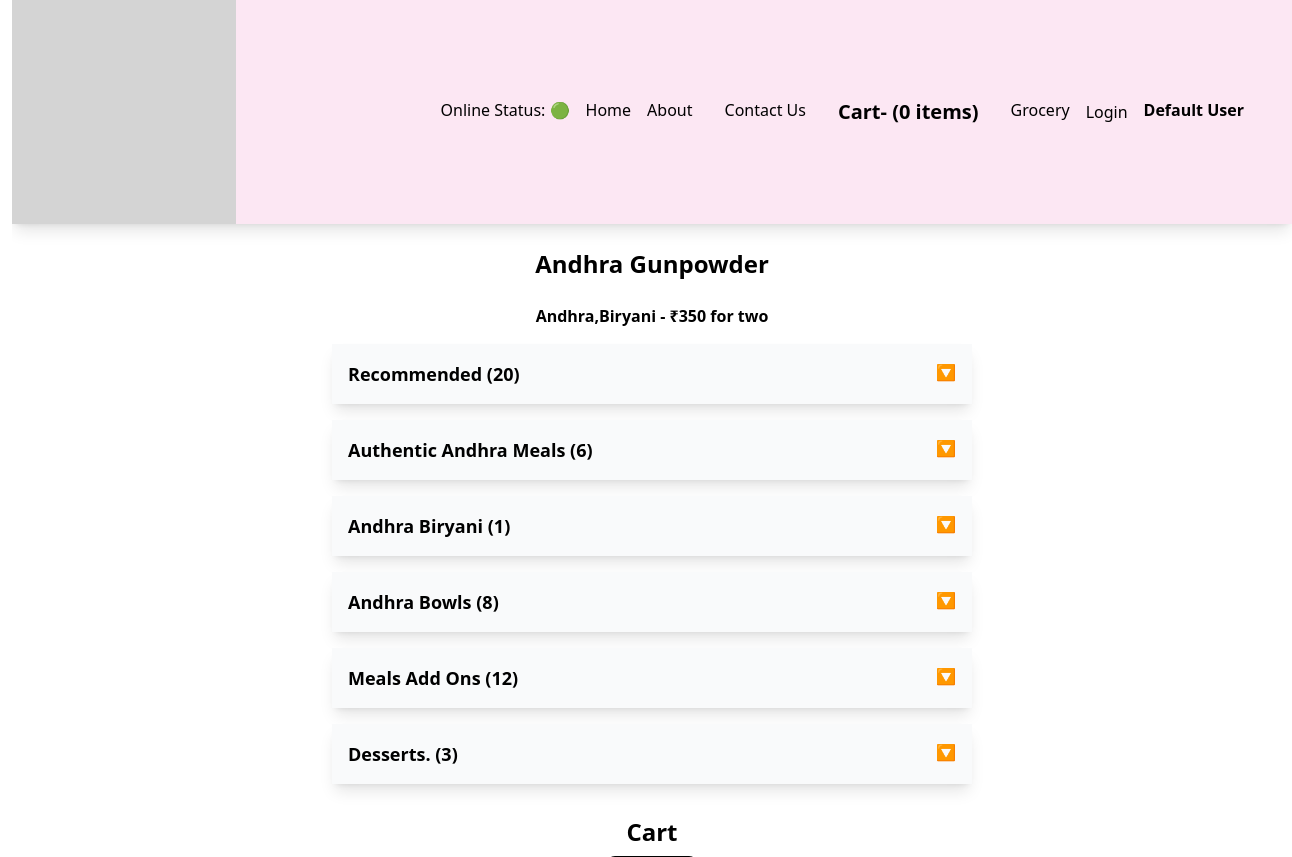
Test: should add order to the cart
Click the text "Desserts. (3)" at (403, 754), box [348,740,458,768]
(page scrolled)
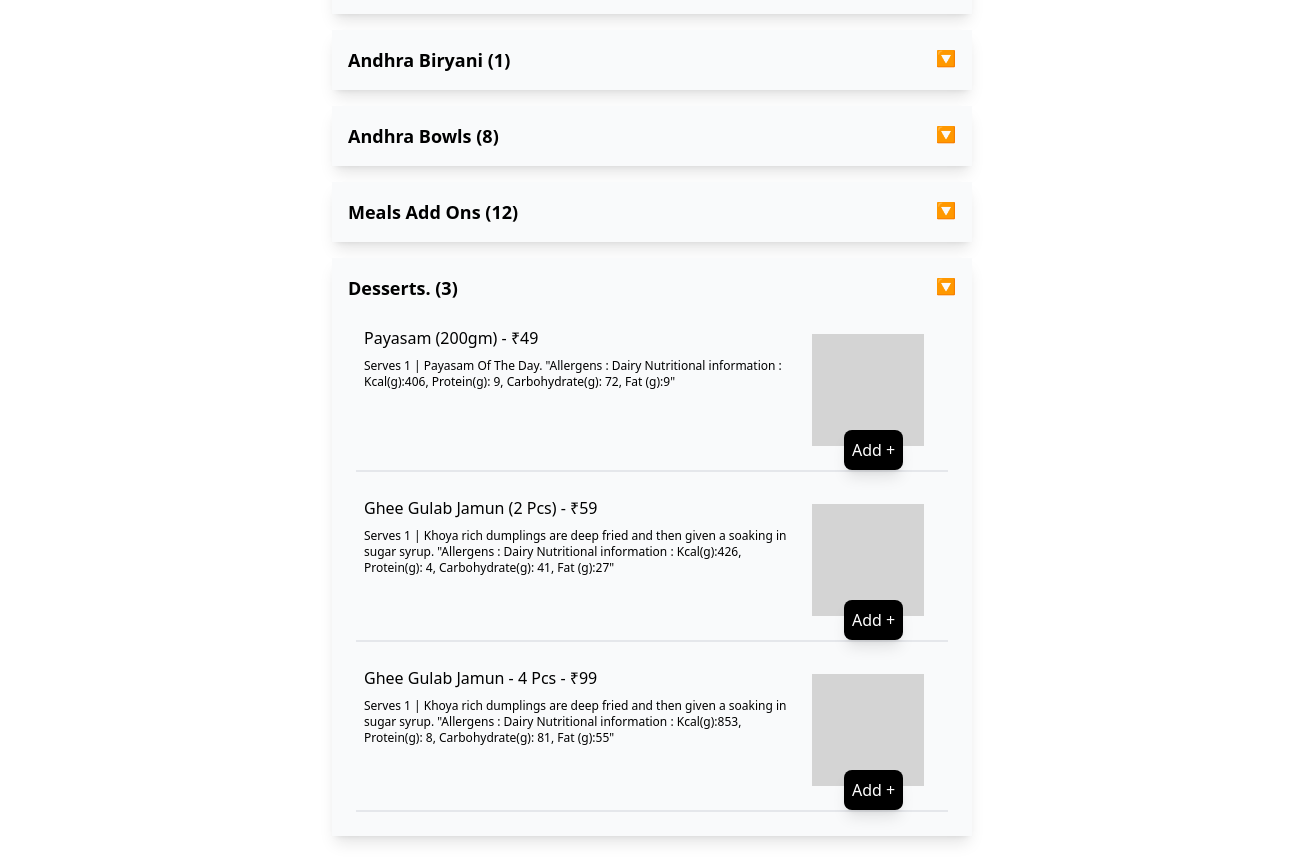
Check: the number of elements with test id "foodItems" is 3, box [356,310,948,472]; [356,480,948,642]; [356,650,948,812]
Click the 1st button "Add +" at (874, 450), box [844,430,903,470]
(page scrolled)
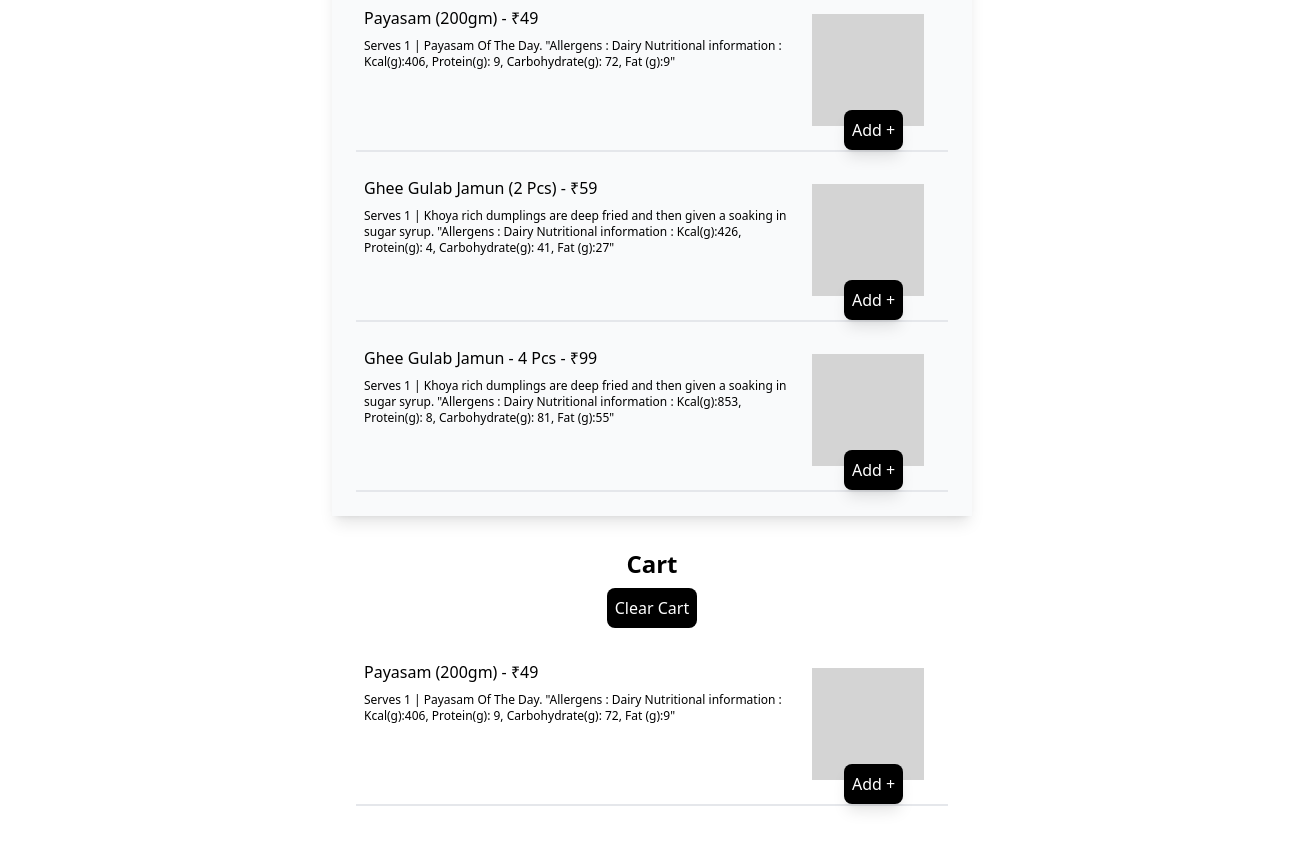
Click the button "Clear Cart" at (652, 608), box [607,588,697,628]
(page scrolled)
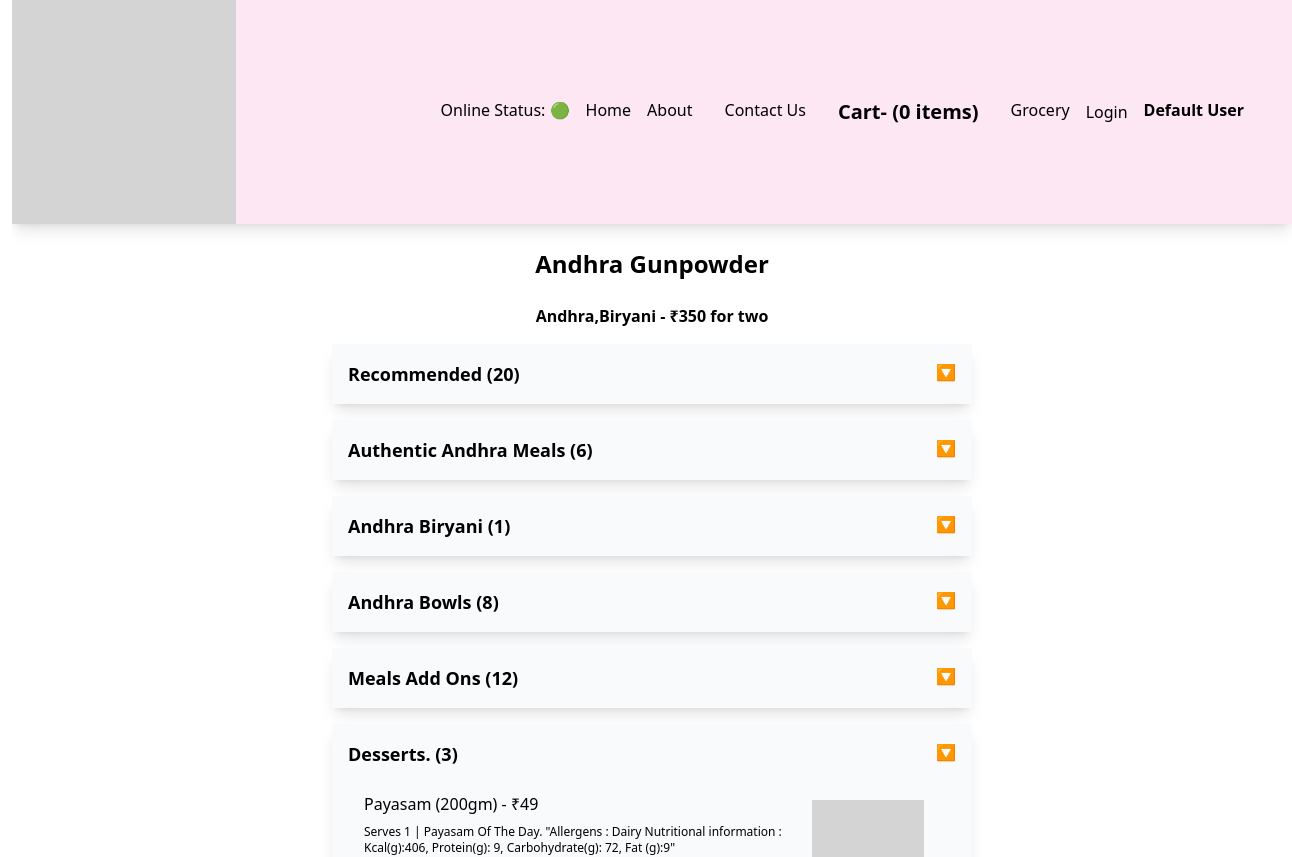
Check: the number of elements with test id "foodItems" is 3
Check: the link "Cart- (0 items)" is shown, box [838,98,978,125]
